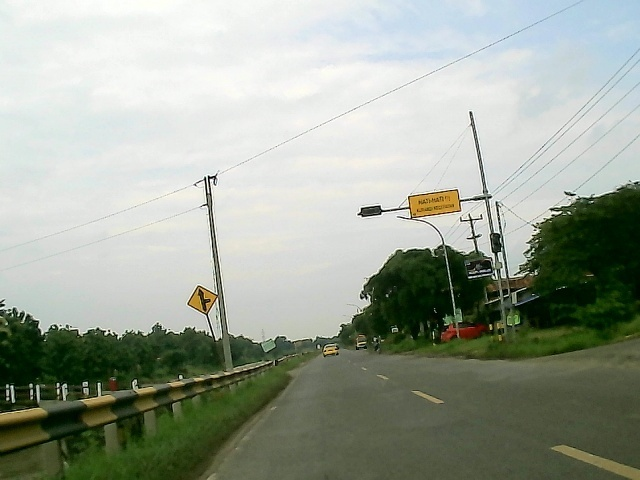Simpang kanan dengan prioritas: (184, 284, 221, 316)
